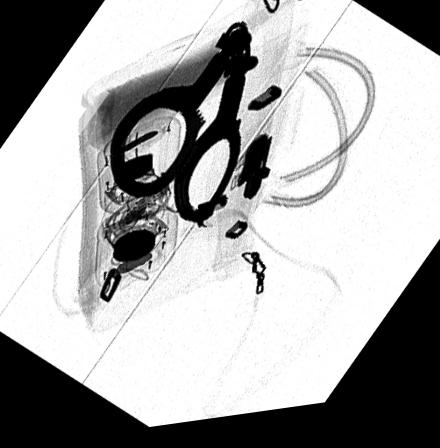HandCuffs: (110, 27, 259, 233)
